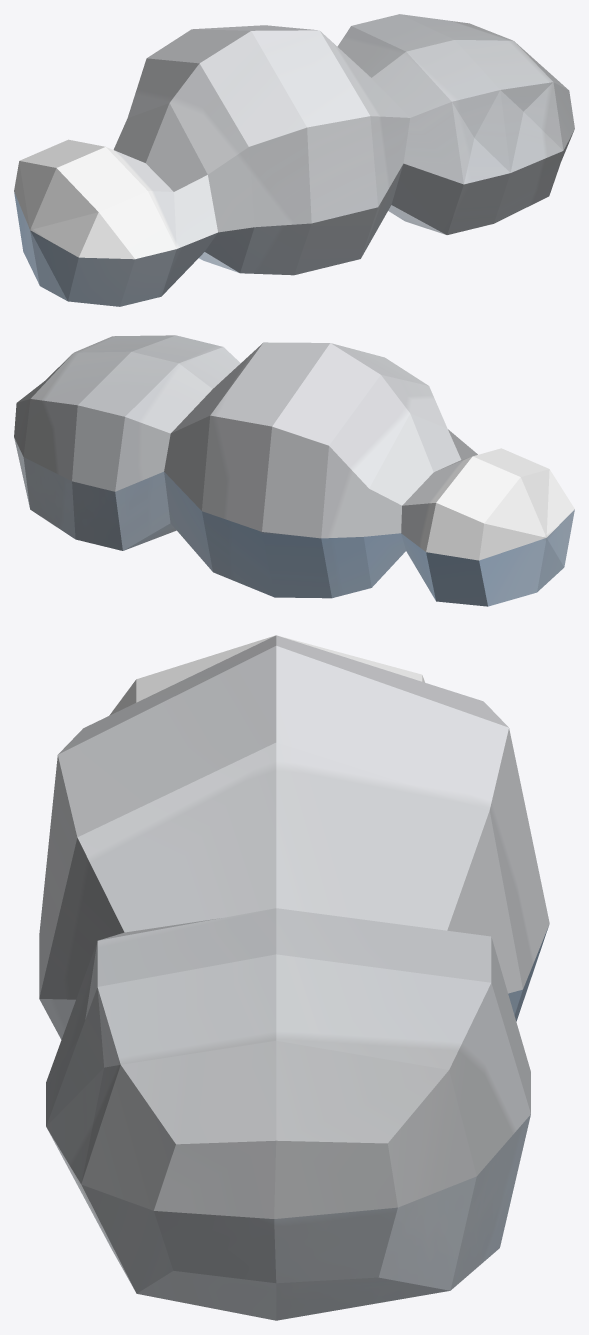
Rendered from clouds3.obj.
3 renders of one model, top to bottom at view 1: azimuth 30°, elevation 25°; view 2: azimuth 150°, elevation 25°; view 3: azimuth 270°, elevation 25°, orthographic. The views are drawn at different scales.
Visible parts, largest first — view 1: Plane; view 2: Plane; view 3: Plane.
Part boxes in pixels (x1,y1,x2,y2): Plane: (14,14,574,306); Plane: (14,335,574,606); Plane: (39,635,549,1320).
Bounding box in the file's own units: 3.29 × 1.39 × 1.43.
1 material, 1 textured.
